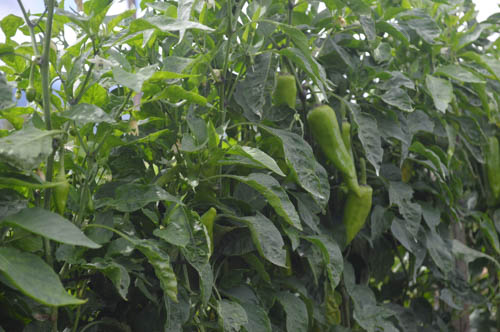ChiliPepper: (308, 107, 352, 179), (345, 186, 377, 240), (273, 76, 301, 112)
